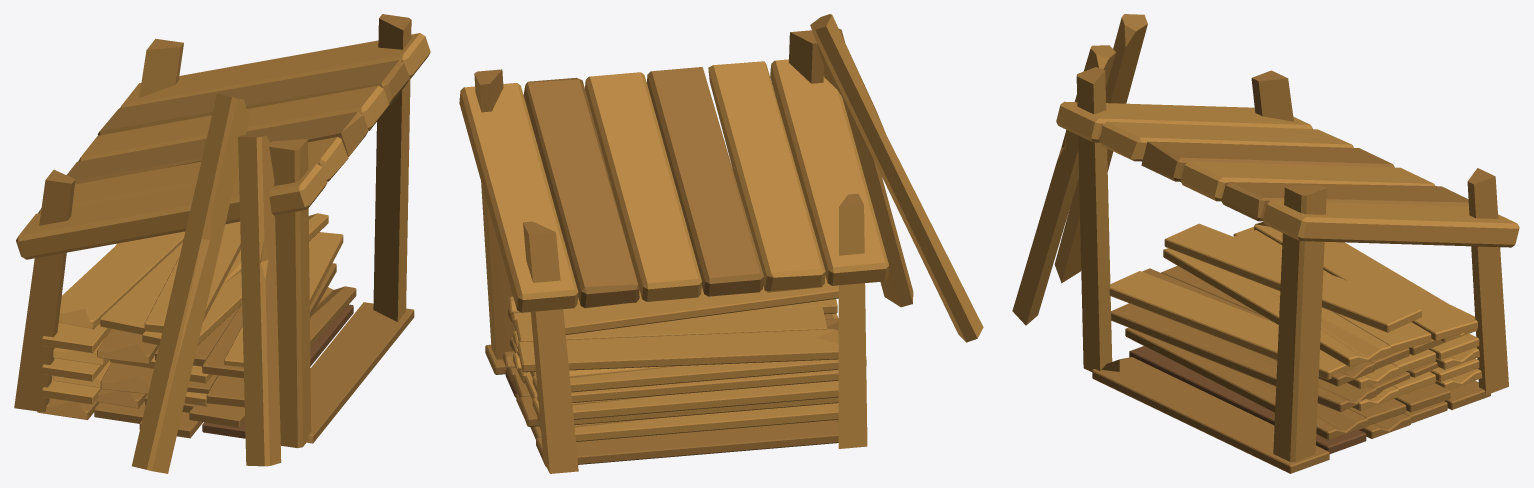
The model's file is Wood3.fbx.
3 views of the same model, side by side, from view 1: azimuth 30°, elevation 25°; view 2: azimuth 150°, elevation 25°; view 3: azimuth 270°, elevation 25° (orthographic). The views are drawn at different scales.
Parts seen in each view (by area): view 1: Wood3; view 2: Wood3; view 3: Wood3.
Boxes of the visible parts, x1=… form: Wood3: x1=14, y1=14, x2=430, y2=473; Wood3: x1=459, y1=14, x2=983, y2=473; Wood3: x1=1012, y1=14, x2=1519, y2=473.
Size of the model in its own units: 237 by 186 by 256.
